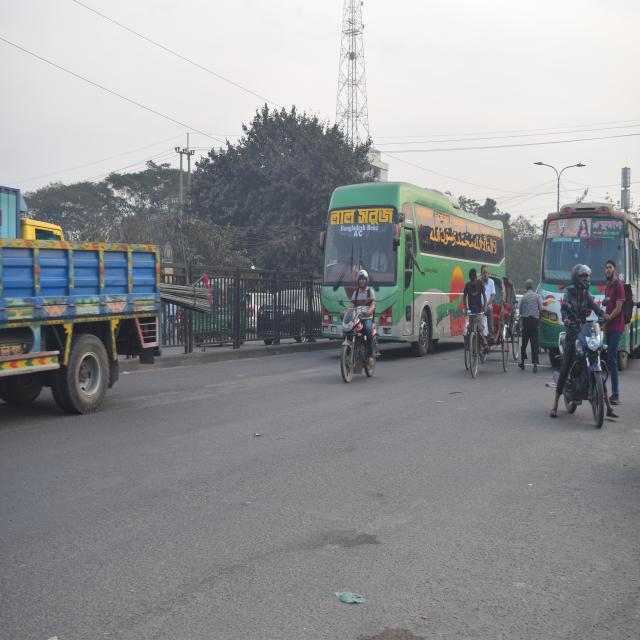bus: (324, 181, 504, 343), (540, 202, 640, 356)
car: (257, 288, 317, 342)
motorbike: (548, 320, 610, 424), (328, 304, 382, 383)
truck: (0, 223, 165, 403)
